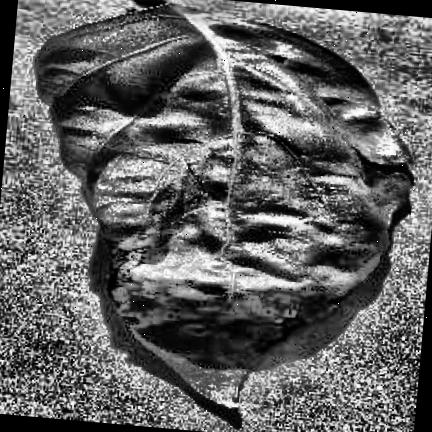leaf: (37, 0, 412, 409)
